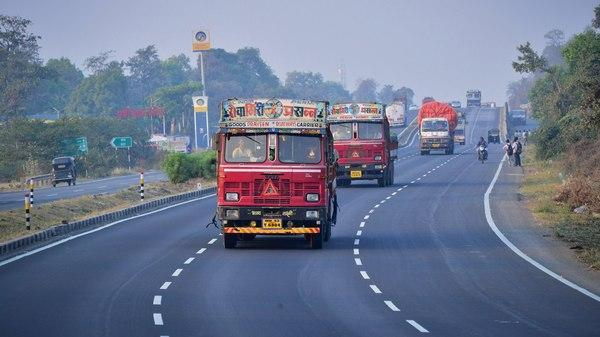car: (213, 94, 341, 251), (325, 99, 404, 196), (412, 100, 465, 161)
